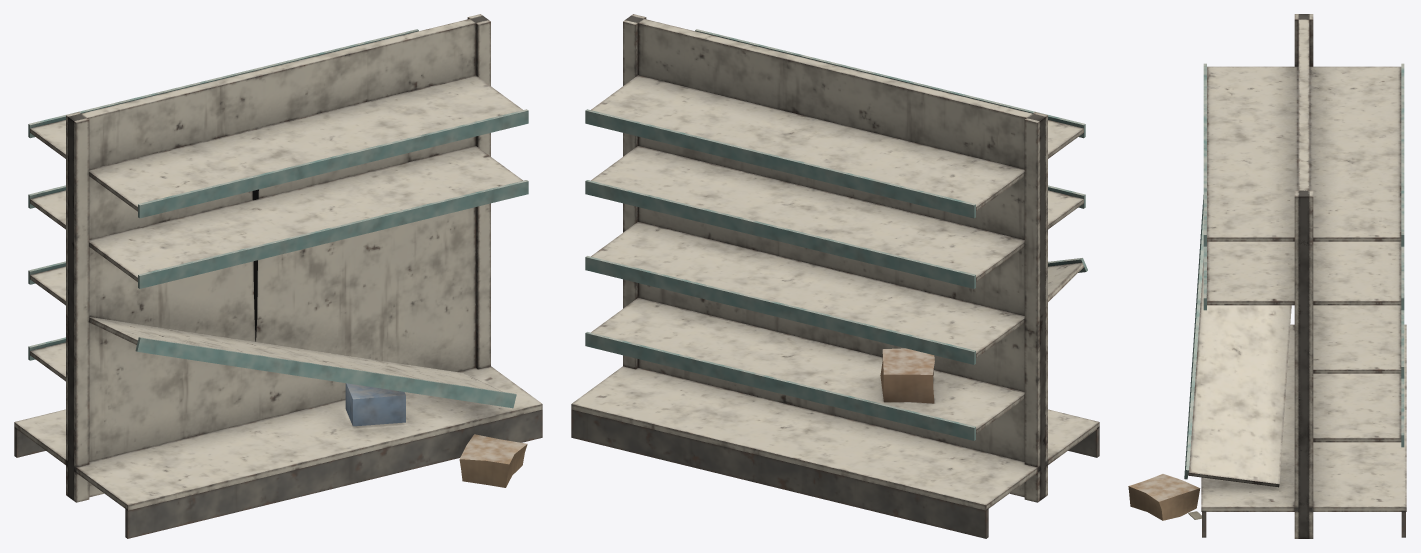
Rendered from gondola_empty.fbx.
The picture shows the model from 3 angles, left to right: view 1: azimuth 30°, elevation 25°; view 2: azimuth 150°, elevation 25°; view 3: azimuth 270°, elevation 25°; orthographic projection. The views are drawn at different scales.
Visible parts, largest first — view 1: Body; view 2: Body; view 3: Body.
Boxes of the visible parts, x1,y1,x2,y2 form: Body: (14, 14, 542, 538); Body: (571, 14, 1099, 538); Body: (1128, 14, 1406, 538).
Size of the model in its own units: 8 by 7.04 by 5.15.
Materials: 1 (1 with a texture image).
